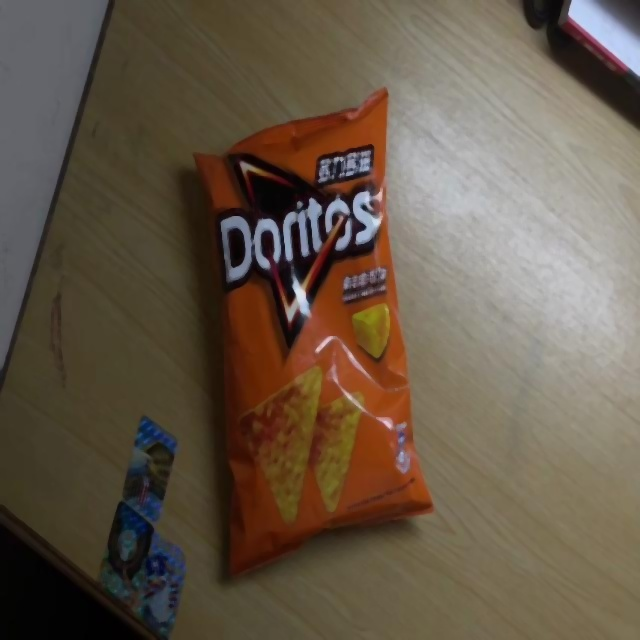Doritos: (192, 86, 434, 586)
